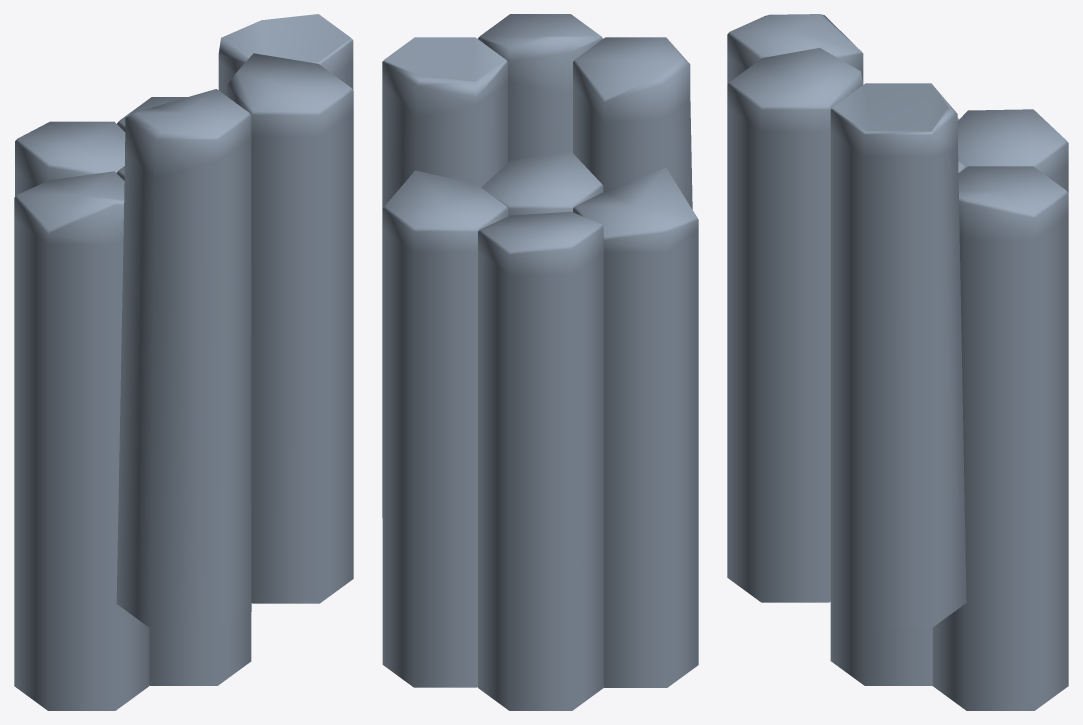
File: HexRaised1.fbx
3 views of the same model, side by side, from view 1: azimuth 30°, elevation 25°; view 2: azimuth 150°, elevation 25°; view 3: azimuth 270°, elevation 25° (orthographic). The views are drawn at different scales.
Visible parts, largest first — view 1: Cylinder.003, Cylinder.004, Cylinder.002, Cylinder.006, Cylinder.000, Cylinder.005; view 2: Cylinder.005, Cylinder.007, Cylinder.004, Cylinder.000, Cylinder.003, Cylinder.002, Cylinder.006; view 3: Cylinder.000, Cylinder.007, Cylinder.002, Cylinder.005, Cylinder.006, Cylinder.003.
Boxes of the visible parts, box(x1,y1,x2,y2) form: Cylinder.003: box(116, 89, 251, 628); Cylinder.004: box(14, 171, 149, 710); Cylinder.002: box(227, 53, 353, 603); Cylinder.006: box(116, 166, 251, 685); Cylinder.000: box(218, 14, 353, 96); Cylinder.005: box(15, 121, 125, 196); Cylinder.005: box(478, 211, 603, 710); Cylinder.007: box(382, 170, 508, 687); Cylinder.004: box(573, 168, 698, 687); Cylinder.000: box(382, 37, 507, 517); Cylinder.003: box(573, 37, 692, 209); Cylinder.002: box(478, 14, 603, 162); Cylinder.006: box(481, 151, 603, 216); Cylinder.000: box(830, 83, 966, 627); Cylinder.007: box(932, 166, 1068, 710); Cylinder.002: box(727, 48, 863, 602); Cylinder.005: box(957, 109, 1068, 192); Cylinder.006: box(830, 161, 965, 685); Cylinder.003: box(727, 14, 863, 84).
Size of the model in its own units: 520 by 1001 by 499.
